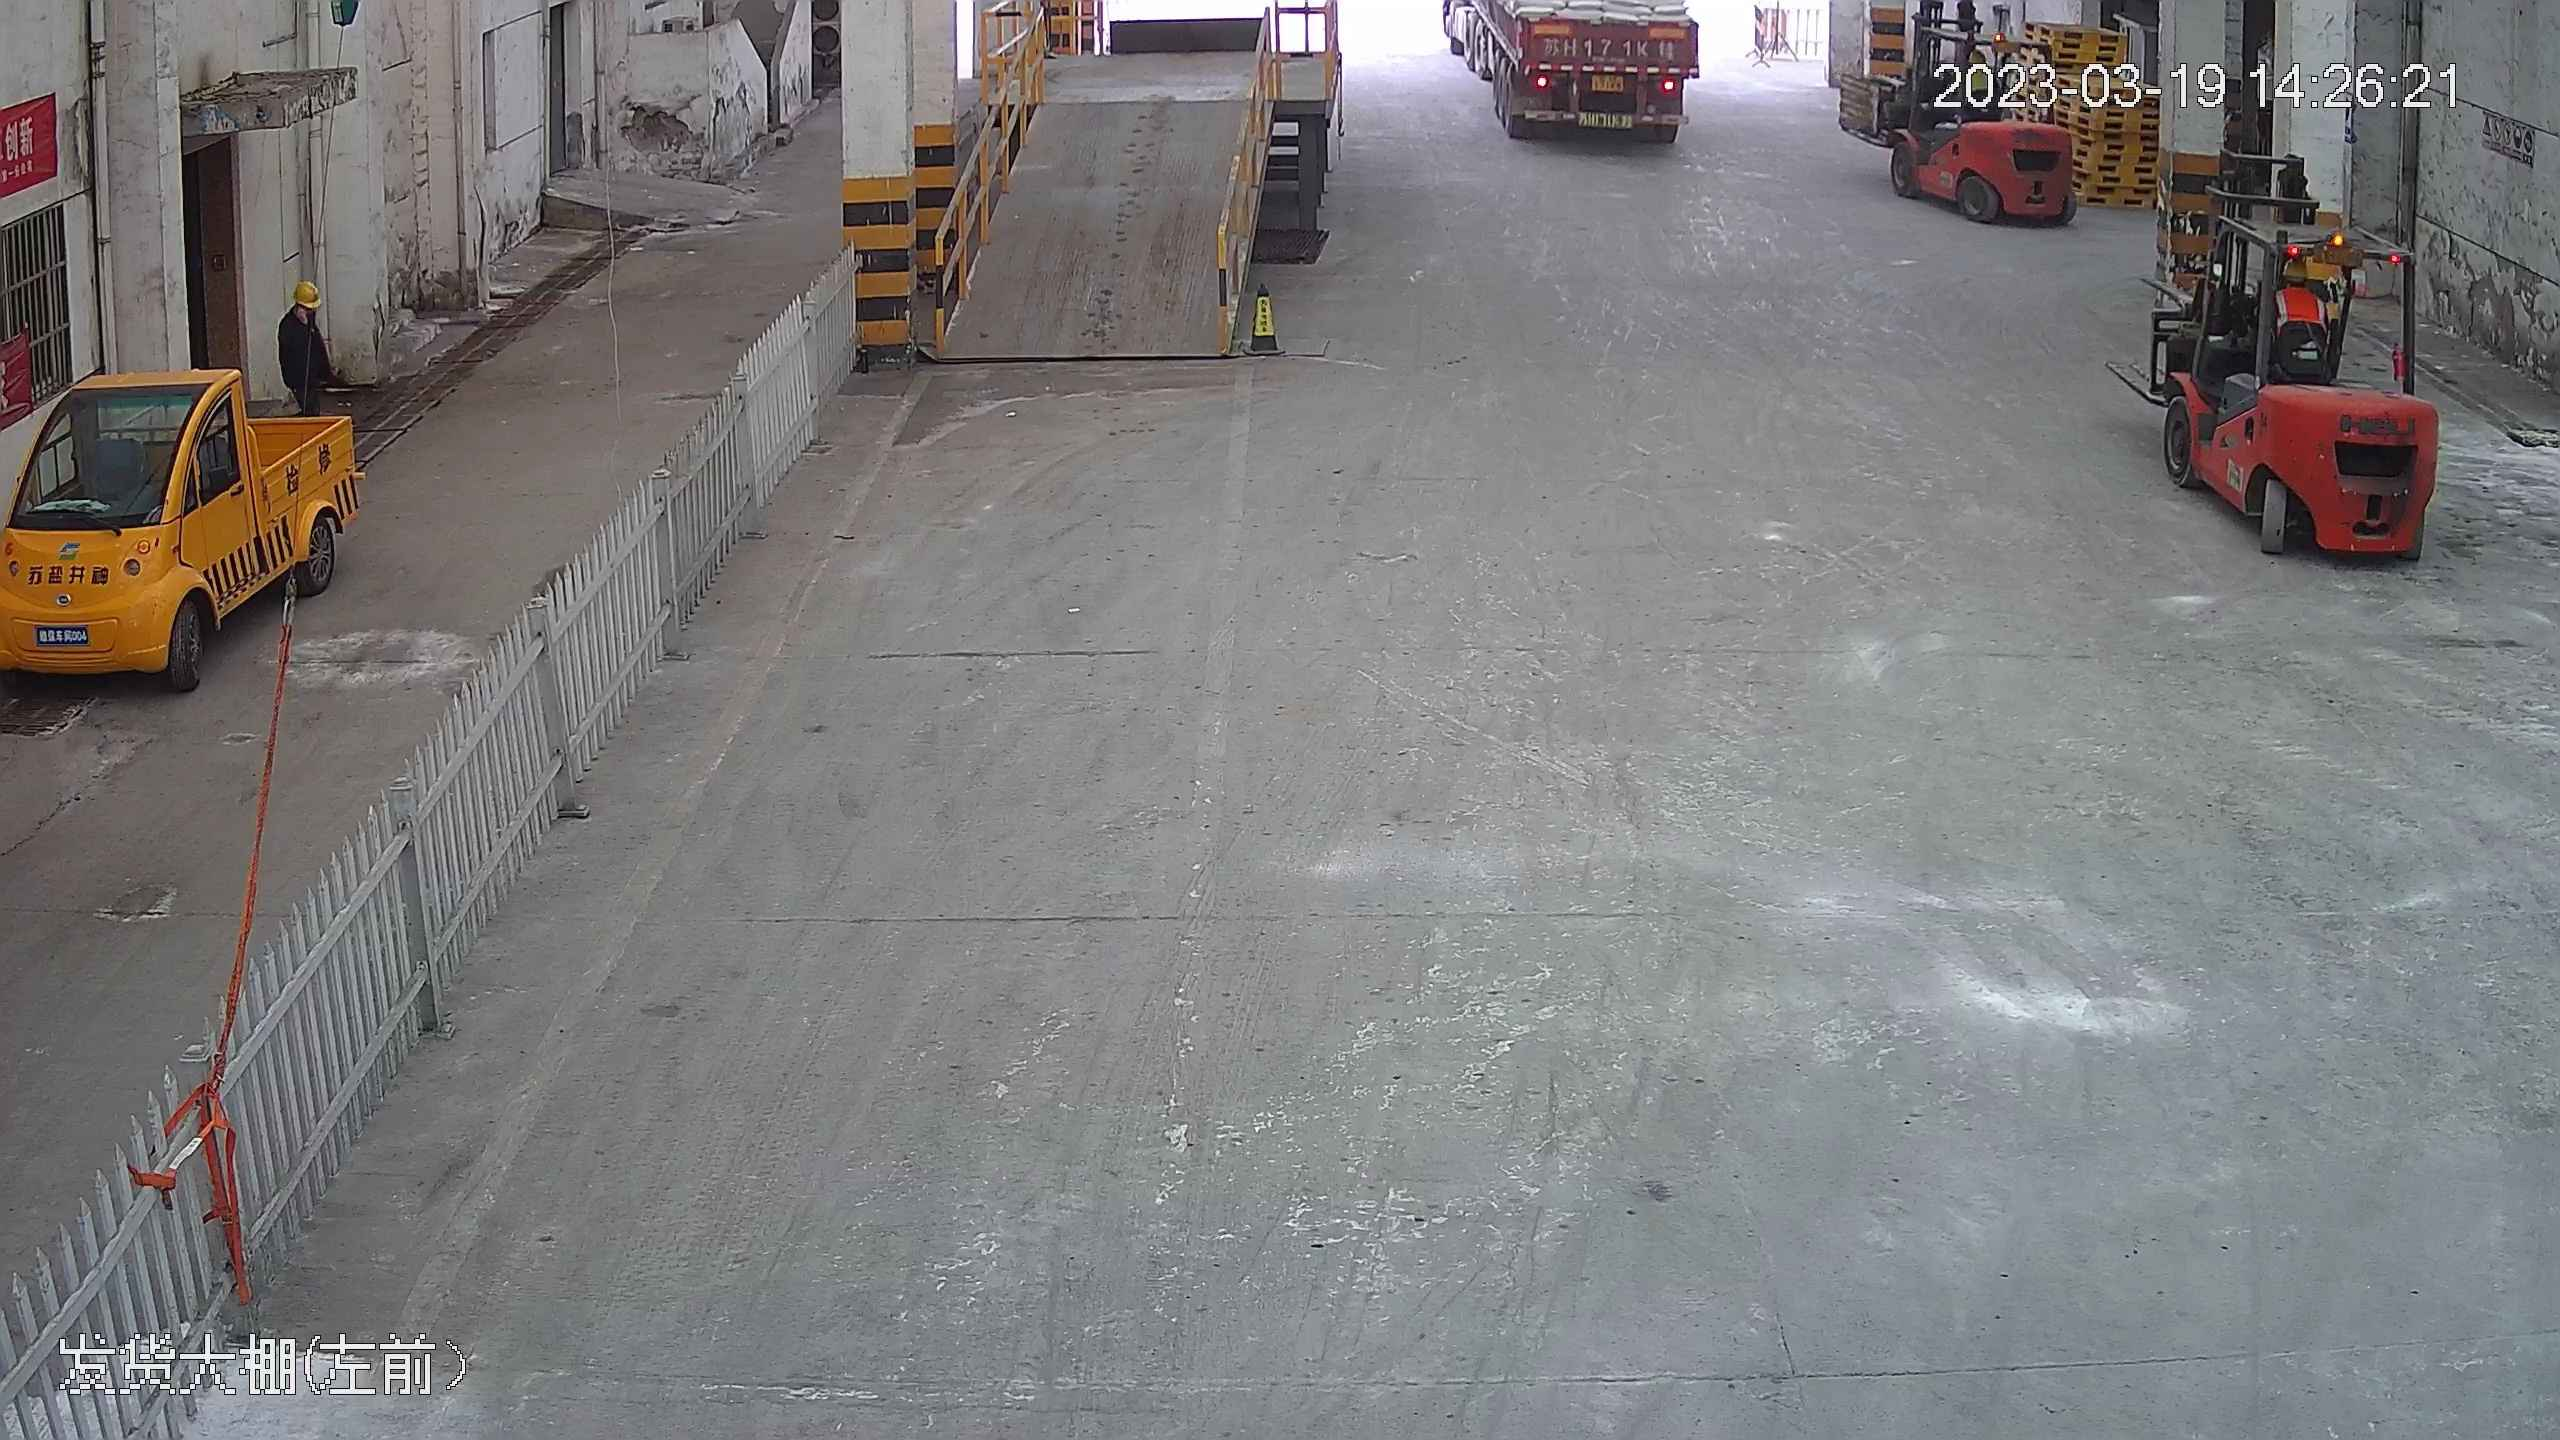head: (2268, 253, 2339, 317), (278, 278, 327, 335)
helmet: (2279, 255, 2311, 282), (292, 279, 321, 306)
people: (273, 276, 340, 403)
truck: (1448, 1, 1706, 139)
